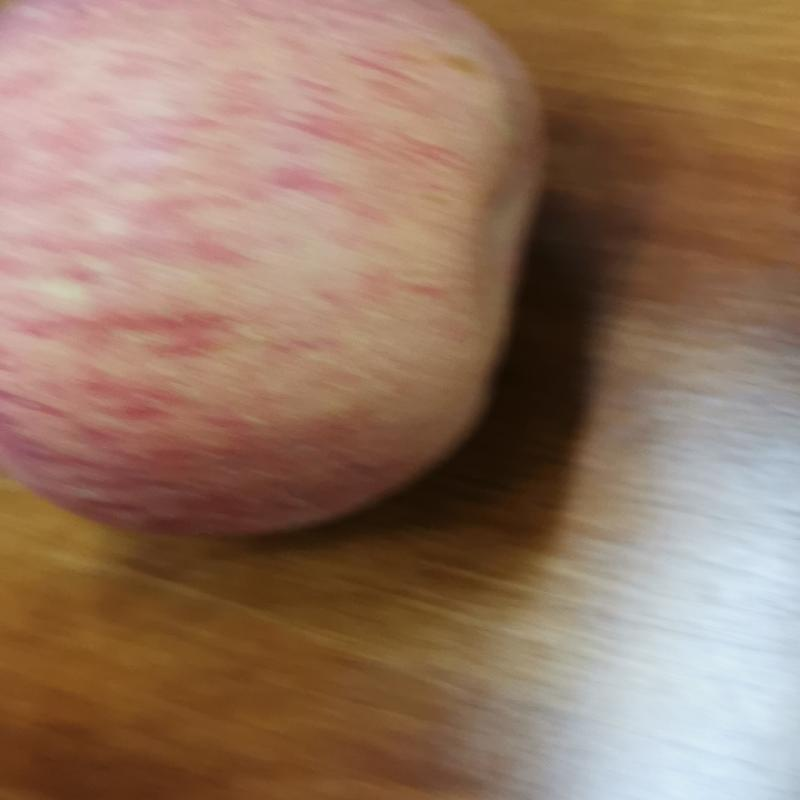apples: (1, 1, 557, 545)
